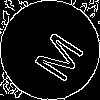M: (25, 25, 86, 85)
